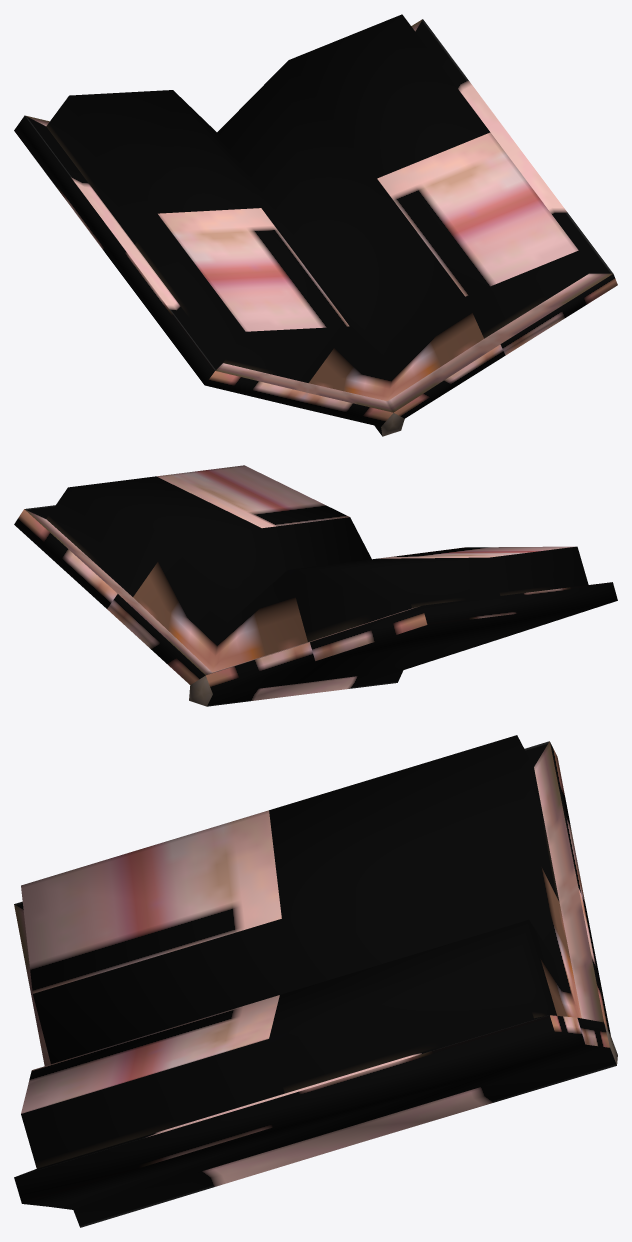
3 renders of one model, top to bottom at view 1: azimuth 30°, elevation 25°; view 2: azimuth 150°, elevation 25°; view 3: azimuth 270°, elevation 25°, orthographic. The views are drawn at different scales.
Visible parts, largest first — view 1: T1L4M007_33; view 2: T1L4M007_33; view 3: T1L4M007_33.
Boxes of the visible parts, x1,y1,x2,y2 form: T1L4M007_33: (14,14,617,436); T1L4M007_33: (14,465,617,706); T1L4M007_33: (14,735,617,1227).
Bounding box in the file's own units: 0.6631 × 0.4082 × 0.5967.
